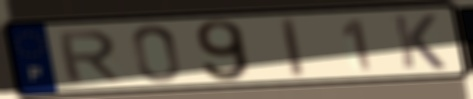0: (129, 23, 184, 84)
1: (340, 17, 374, 72)
9: (192, 18, 250, 83)
I: (278, 15, 308, 78)
K: (390, 13, 450, 71)
R: (54, 28, 124, 85)
